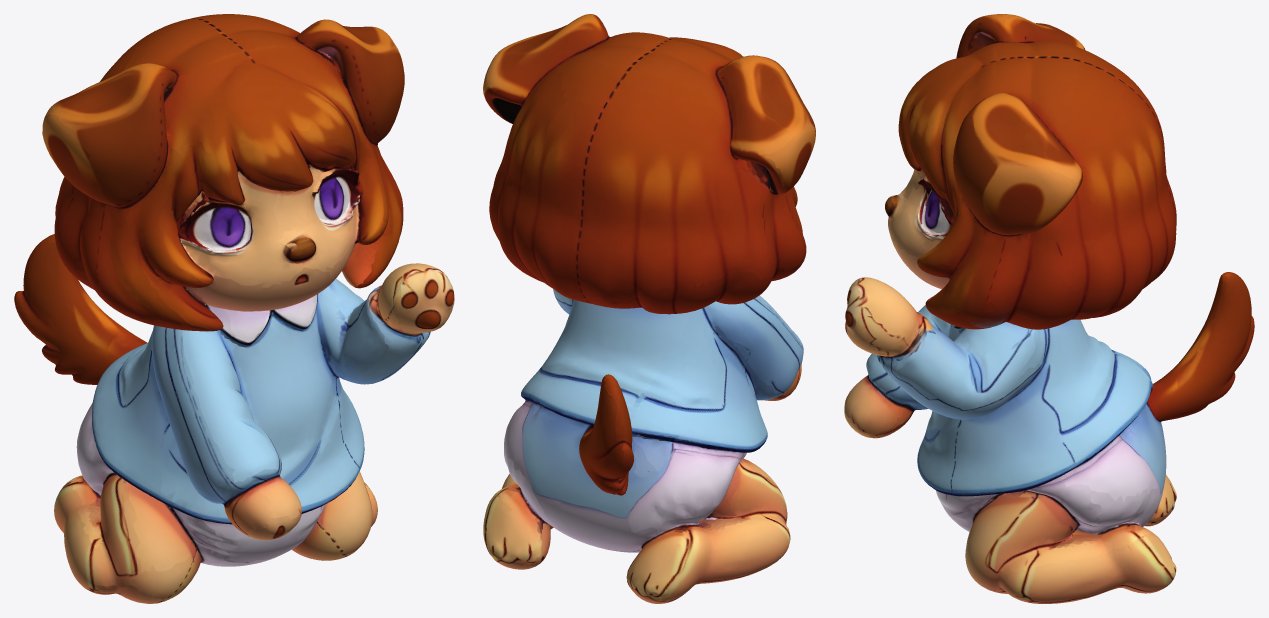
File: sakipupdoll.glb
The picture shows the model from 3 angles, left to right: view 1: azimuth 30°, elevation 25°; view 2: azimuth 150°, elevation 25°; view 3: azimuth 270°, elevation 25°; orthographic projection. The views are drawn at different scales.
Parts seen in each view (by area): view 1: temp_mesh.ply; view 2: temp_mesh.ply; view 3: temp_mesh.ply.
Boxes of the visible parts, x1,y1,x2,y2 form: temp_mesh.ply: (14,14,454,603); temp_mesh.ply: (483,14,815,603); temp_mesh.ply: (844,14,1254,603).
Bounding box in the file's own units: 1.29 × 1.97 × 1.47.
Materials: 1 (1 with a texture image).
